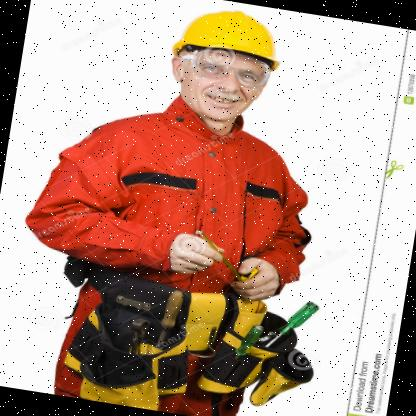capacete: (157, 0, 293, 132)
sem_colete_refletivo: (11, 84, 328, 336)
